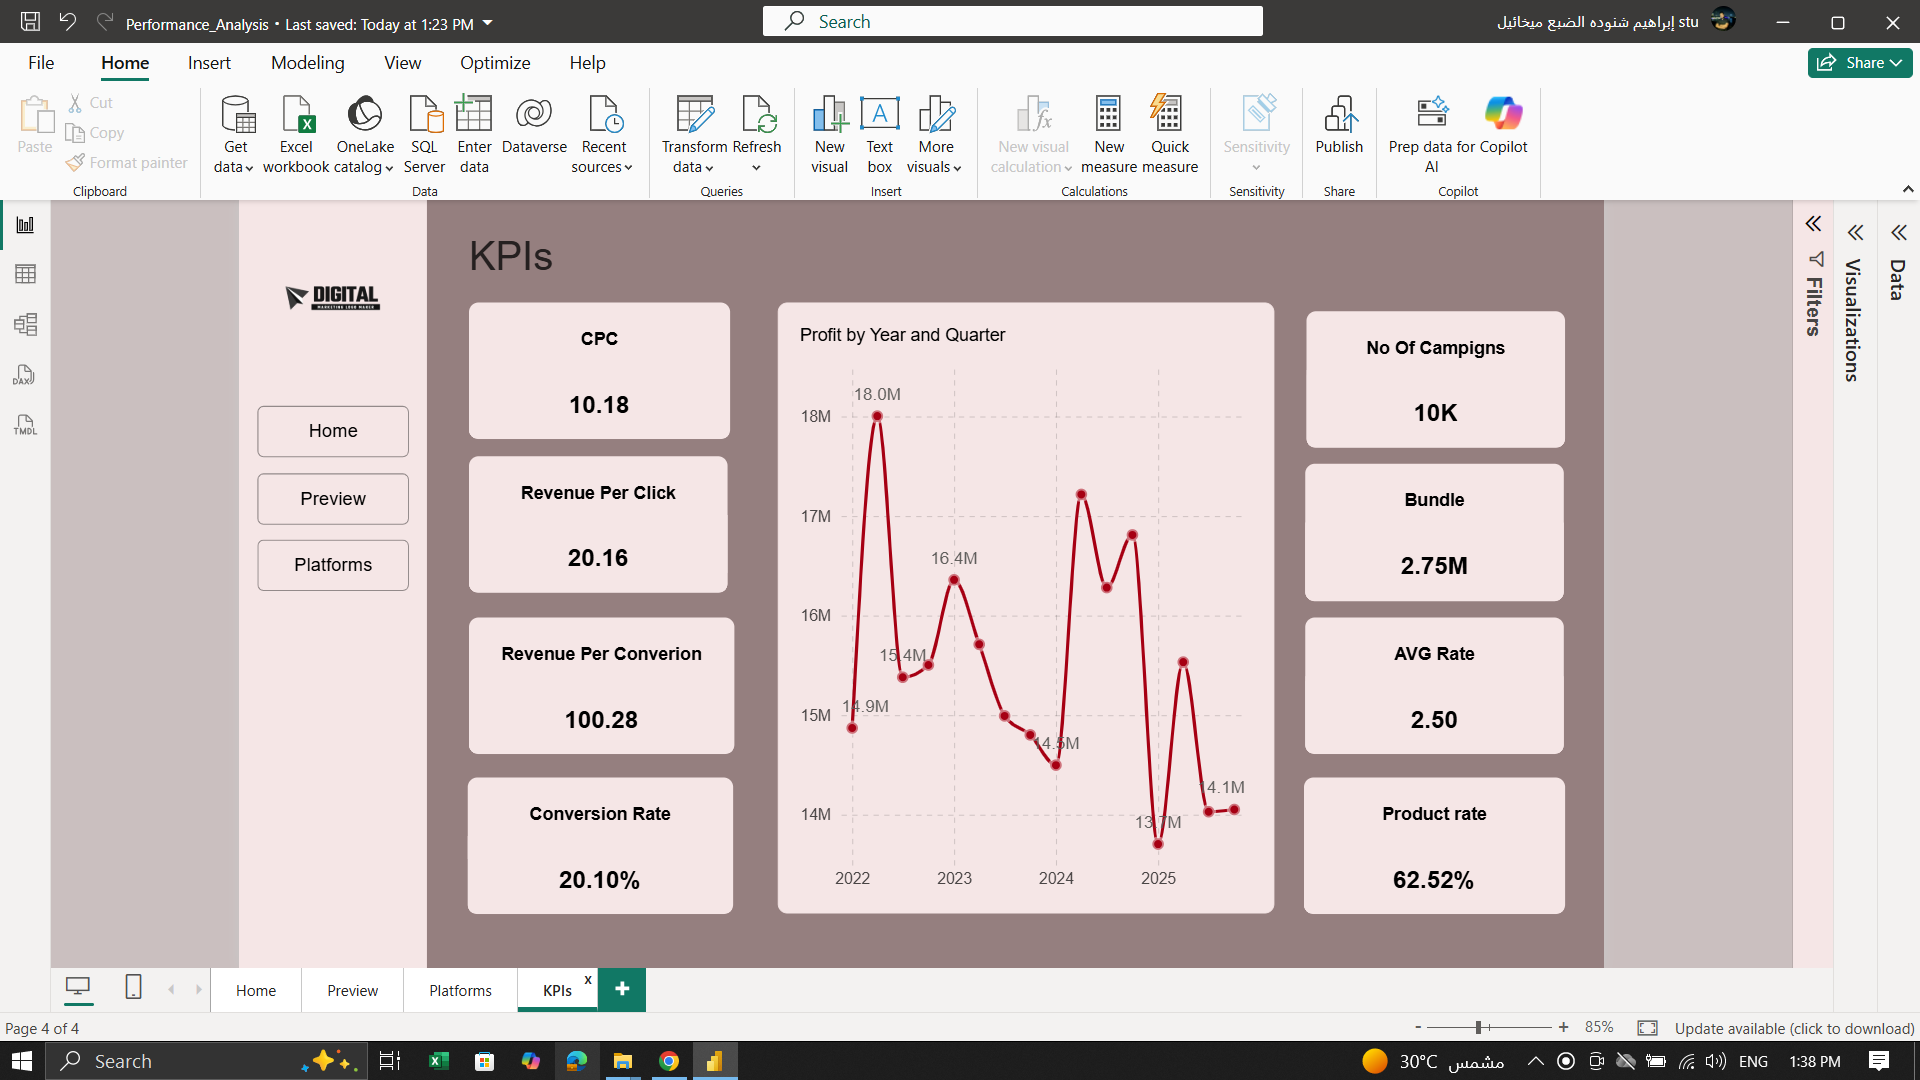

What the dashboard file says about the page in this screenshot:
{"tool":"powerbi","page":{"name":"KPIs","canvas":[1280,720],"ordinal":3},"visuals":[{"type":"shape","box":[0,0,176,720],"z":0,"group":"g2"},{"type":"textbox","title":"Page title","box":[216,32,440,48],"z":0},{"type":"group","id":"g1","title":"Page navigation","box":[16.4,192.2,144.1,175.8],"z":250,"group":"g2"},{"type":"group","id":"g2","title":"Side Bar","box":[0,0,176,720],"z":1000},{"type":"cardVisual","title":"Revenue Per Click","fields":{"Data":["MeasureTable.RevenuePerClick"]},"box":[215.6,240.2,242.6,127.7],"z":2000},{"type":"cardVisual","title":"Revenue Per Converion","fields":{"Data":["MeasureTable.RevenuePerConversion_RPC"]},"box":[479.3,96.1,248.4,127.7],"z":3000},{"type":"cardVisual","title":"Bundle","fields":{"Data":["MeasureTable.TotalBundle"]},"box":[999.6,239.1,242.6,128.9],"z":4000},{"type":"cardVisual","title":"Product rate","fields":{"Data":["MeasureTable.SatisficationPercent"]},"box":[746.5,97.3,244.9,127.7],"z":5000},{"type":"cardVisual","title":"AVG Rate","fields":{"Data":["MeasureTable.AverageSatisfaction"]},"box":[746.5,241.4,242.6,127.7],"z":6000},{"type":"cardVisual","title":"Conversion Rate","fields":{"Data":["MeasureTable.ConverionRate"]},"box":[479.3,240.2,248.4,127.7],"z":7000},{"type":"cardVisual","title":"No Of  Campigns","fields":{"Data":["MeasureTable.NoOfCampigns"]},"box":[999.6,97.3,242.6,127.7],"z":8000},{"type":"cardVisual","title":"CPC","fields":{"Data":["MeasureTable.CPC"]},"box":[215.6,96.1,244.9,127.7],"z":9000},{"type":"areaChart","fields":{"Y":["MeasureTable.Profit"],"Category":["marketing_and_product_performance.Date.Variation.Date Hierarchy.Year","marketing_and_product_performance.Date.Variation.Date Hierarchy.Quarter"]},"box":[215.6,391.4,1026.6,302.3],"z":10000},{"type":"image","box":[0,0,175.8,184],"z":11000},{"type":"actionButton","box":[16.4,317.8,144.1,50.2],"z":13000,"group":"g1"},{"type":"actionButton","box":[16.4,255,144.1,50.2],"z":14000,"group":"g1"},{"type":"actionButton","box":[16.4,192.2,144.1,50.2],"z":15000,"group":"g1"}]}

Visuals, with their boxes on the page's 1280x720 design canvas (x1, y1, x2, y2). These are canvas units, not pixel positions in the 1920x1080 screenshot, which may show the page scaled, cropped or inside an application window:
shape: [0, 0, 176, 720]
"Page title" textbox: [216, 32, 656, 80]
"Page navigation" group: [16, 192, 160, 368]
"Side Bar" group: [0, 0, 176, 720]
"Revenue Per Click" cardVisual: [216, 240, 458, 368]
"Revenue Per Converion" cardVisual: [479, 96, 728, 224]
"Bundle" cardVisual: [1000, 239, 1242, 368]
"Product rate" cardVisual: [746, 97, 991, 225]
"AVG Rate" cardVisual: [746, 241, 989, 369]
"Conversion Rate" cardVisual: [479, 240, 728, 368]
"No Of  Campigns" cardVisual: [1000, 97, 1242, 225]
"CPC" cardVisual: [216, 96, 460, 224]
areaChart - MeasureTable.Profit x marketing_and_product_performance.Date.Variation.Date Hierarchy.Year: [216, 391, 1242, 694]
image: [0, 0, 176, 184]
actionButton: [16, 318, 160, 368]
actionButton: [16, 255, 160, 305]
actionButton: [16, 192, 160, 242]
